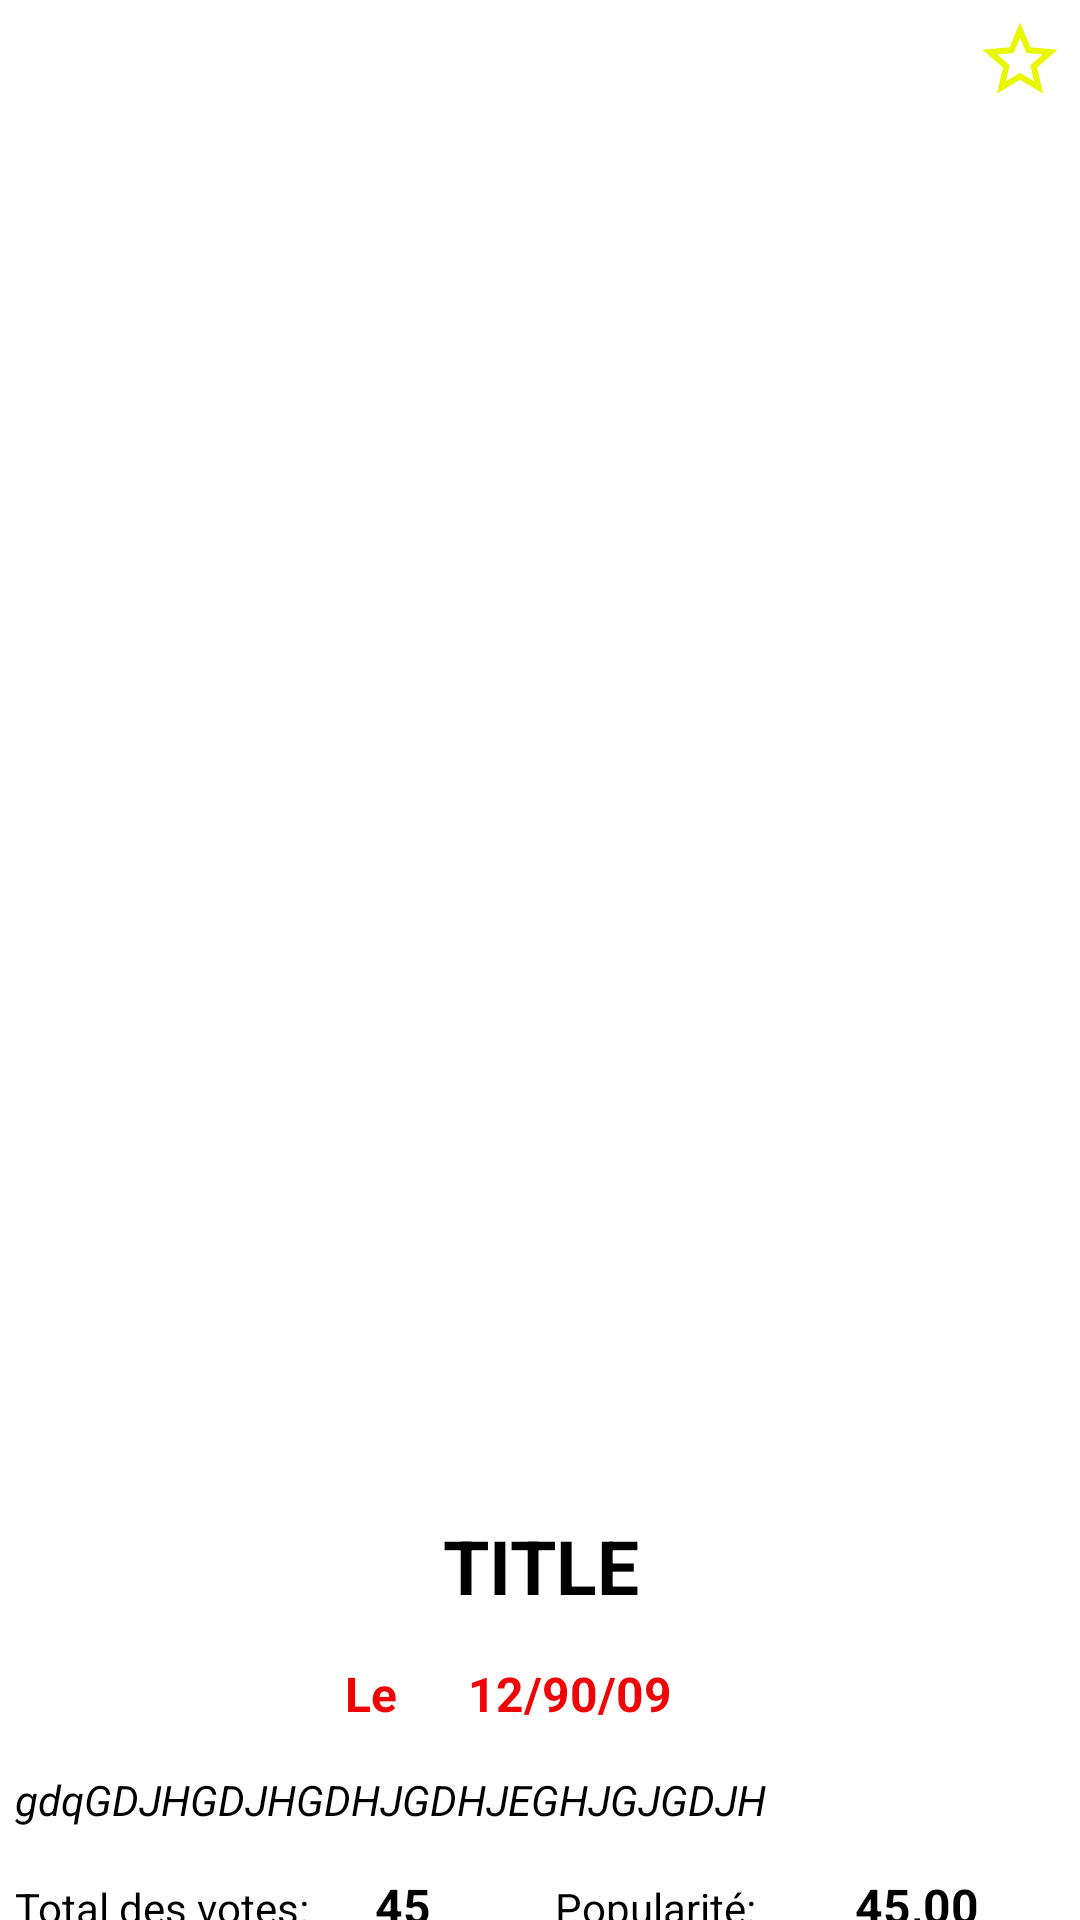

Screen size 1080 × 1920. Icon name, then its center in pixels as [x,y]:
empty star: [1020,58]
